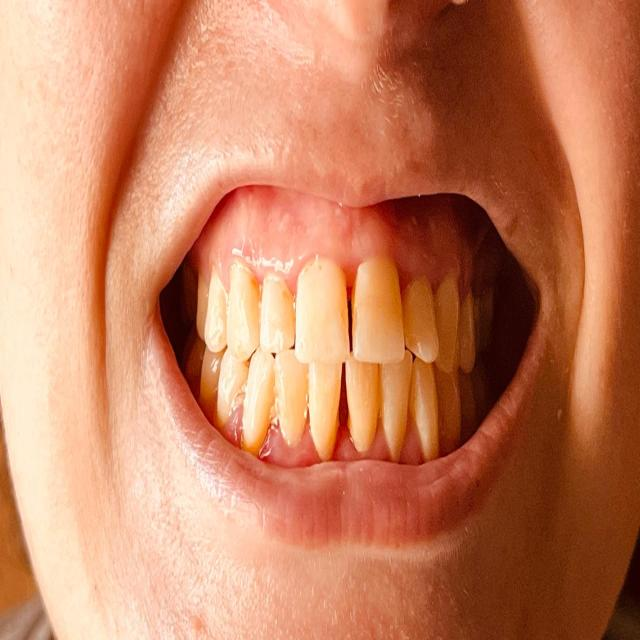tooth: (356, 268, 406, 362), (296, 273, 348, 357), (276, 352, 306, 431), (265, 276, 296, 352), (230, 267, 258, 350), (412, 370, 440, 453), (311, 364, 340, 444), (348, 364, 377, 440), (408, 286, 438, 358), (250, 357, 272, 447), (385, 368, 407, 450), (219, 359, 243, 429), (441, 372, 461, 449), (438, 284, 456, 364), (210, 273, 227, 353), (458, 303, 475, 365), (202, 350, 220, 403)
